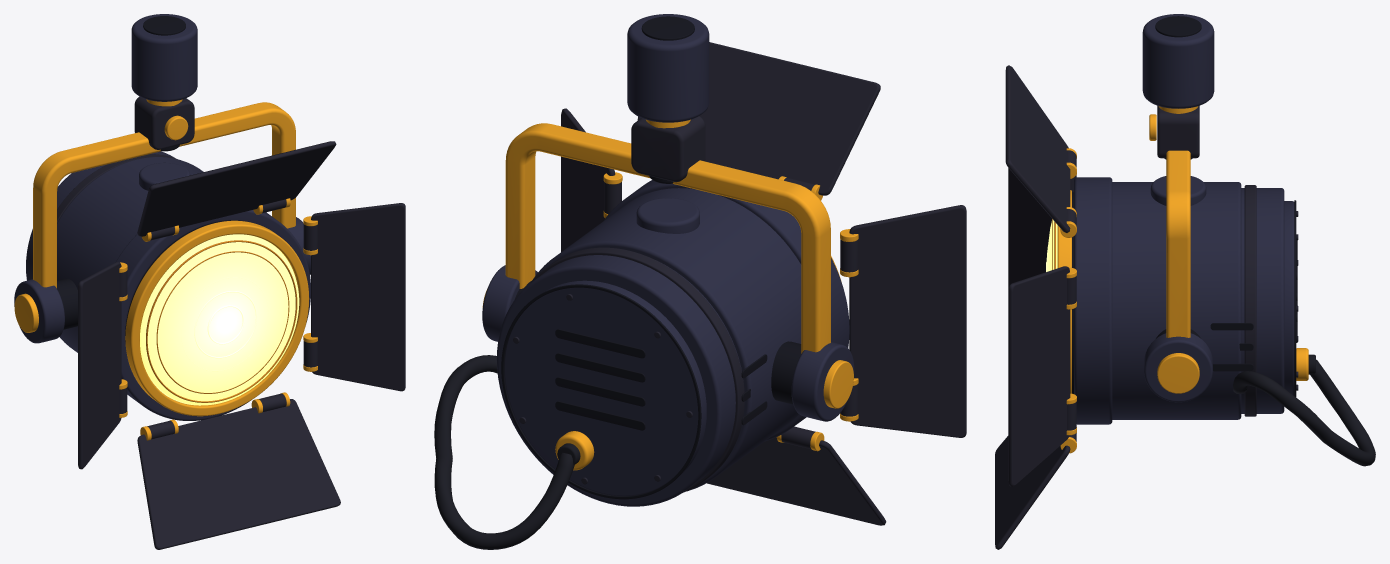
The model's file is StudioSpotlight.glb.
3 renders of one model, left to right at view 1: azimuth 30°, elevation 25°; view 2: azimuth 150°, elevation 25°; view 3: azimuth 270°, elevation 25°, orthographic. The views are drawn at different scales.
Parts seen in each view (by area): view 1: BottomBarnDoor, FresnelLens, RightBarnDoor, GoldSuspensionYoke, TopBarnDoor, MainHousing, LeftBarnDoor, GoldLensRim, HangingAttachment, FrontHousingCollar, HangingJoint, LeftTiltWheel (+8 smaller); view 2: RearCover, LeftBarnDoor, MainHousing, TopBarnDoor, GoldSuspensionYoke, RearDrum, BottomBarnDoor, HangingAttachment, LoopedPowerCable, HangingJoint, RightBarnDoor, FrontHousingCollar (+13 smaller); view 3: MainHousing, RightBarnDoor, FrontHousingCollar, RearDrum, TopBarnDoor, HangingAttachment, GoldSuspensionYoke, LoopedPowerCable, LeftBarnDoor, BottomBarnDoor, RearSeamBand, RightTiltWheel (+7 smaller).
Part boxes in pixels (x1=…): BottomBarnDoor: x1=137, y1=399, x2=340, y2=549; FresnelLens: x1=140, y1=234, x2=299, y2=405; RightBarnDoor: x1=311, y1=203, x2=405, y2=391; GoldSuspensionYoke: x1=33, y1=102, x2=295, y2=288; TopBarnDoor: x1=137, y1=141, x2=336, y2=236; MainHousing: x1=57, y1=157, x2=203, y2=352; LeftBarnDoor: x1=78, y1=262, x2=121, y2=469; GoldLensRim: x1=125, y1=220, x2=309, y2=416; HangingAttachment: x1=131, y1=14, x2=197, y2=101; FrontHousingCollar: x1=115, y1=210, x2=310, y2=420; HangingJoint: x1=134, y1=96, x2=194, y2=149; LeftTiltWheel: x1=14, y1=279, x2=64, y2=343; RearCover: x1=504, y1=280, x2=706, y2=495; LeftBarnDoor: x1=849, y1=205, x2=966, y2=437; MainHousing: x1=533, y1=188, x2=801, y2=491; TopBarnDoor: x1=637, y1=42, x2=880, y2=195; GoldSuspensionYoke: x1=505, y1=123, x2=830, y2=353; RearDrum: x1=496, y1=255, x2=743, y2=506; BottomBarnDoor: x1=707, y1=437, x2=886, y2=525; HangingAttachment: x1=627, y1=14, x2=709, y2=122; LoopedPowerCable: x1=434, y1=355, x2=574, y2=549; HangingJoint: x1=631, y1=116, x2=705, y2=182; RightBarnDoor: x1=561, y1=108, x2=615, y2=251; FrontHousingCollar: x1=603, y1=180, x2=849, y2=441; MainHousing: x1=1112, y1=182, x2=1241, y2=419; RightBarnDoor: x1=1008, y1=266, x2=1070, y2=486; FrontHousingCollar: x1=1074, y1=177, x2=1112, y2=424; RearDrum: x1=1241, y1=188, x2=1284, y2=413; TopBarnDoor: x1=1005, y1=65, x2=1070, y2=232; HangingAttachment: x1=1142, y1=14, x2=1214, y2=108; GoldSuspensionYoke: x1=1166, y1=150, x2=1190, y2=337; LoopedPowerCable: x1=1233, y1=359, x2=1375, y2=466; LeftBarnDoor: x1=1008, y1=168, x2=1051, y2=289; BottomBarnDoor: x1=995, y1=436, x2=1070, y2=549; RearSeamBand: x1=1244, y1=185, x2=1256, y2=416; RightTiltWheel: x1=1144, y1=333, x2=1212, y2=402.
Bounding box in the file's own units: 0.6163 × 0.7958 × 0.5756.
Materials: 7 (7 with a texture image).
